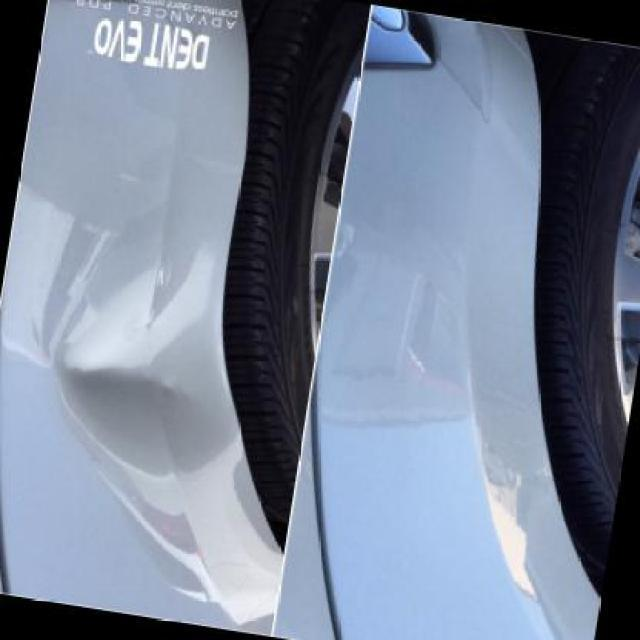dent: (25, 179, 280, 603)
